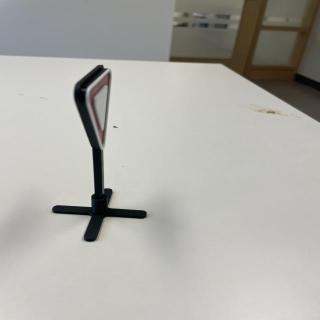sign_yield: (73, 71, 133, 153)
